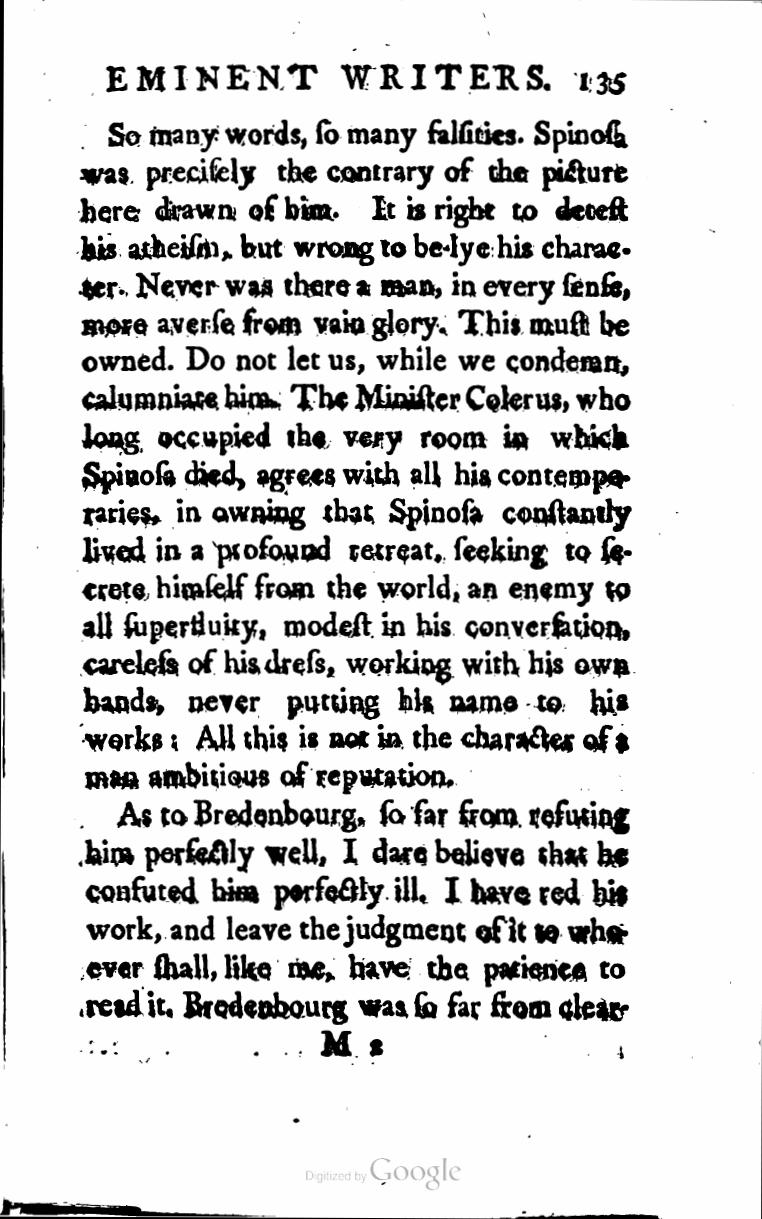full_p: (75, 118, 637, 795)
header: (102, 58, 555, 98)
page_num: (577, 67, 628, 100)
signature: (317, 1025, 387, 1062)
top_p: (80, 798, 633, 1025)
